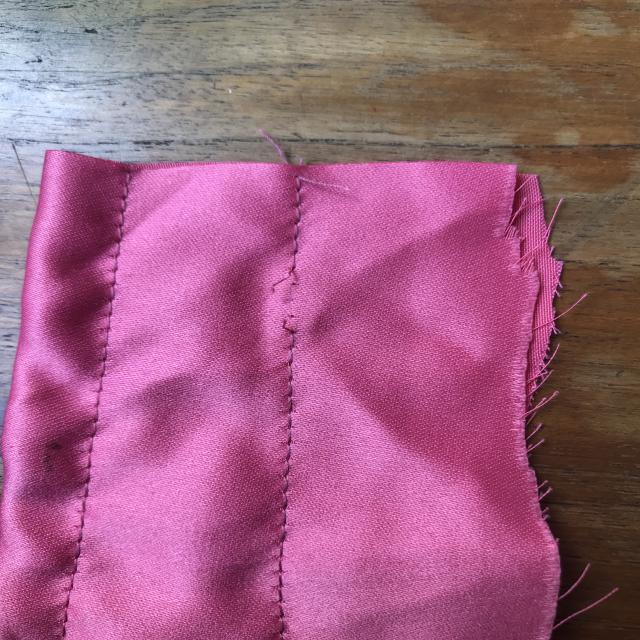broken: (252, 259, 318, 348)
